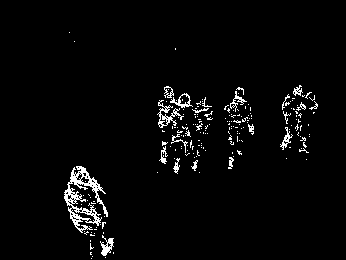person: (64, 163, 114, 259), (224, 85, 255, 171), (191, 96, 214, 176), (173, 93, 193, 174), (296, 90, 319, 157), (158, 85, 176, 166), (284, 83, 301, 151)
